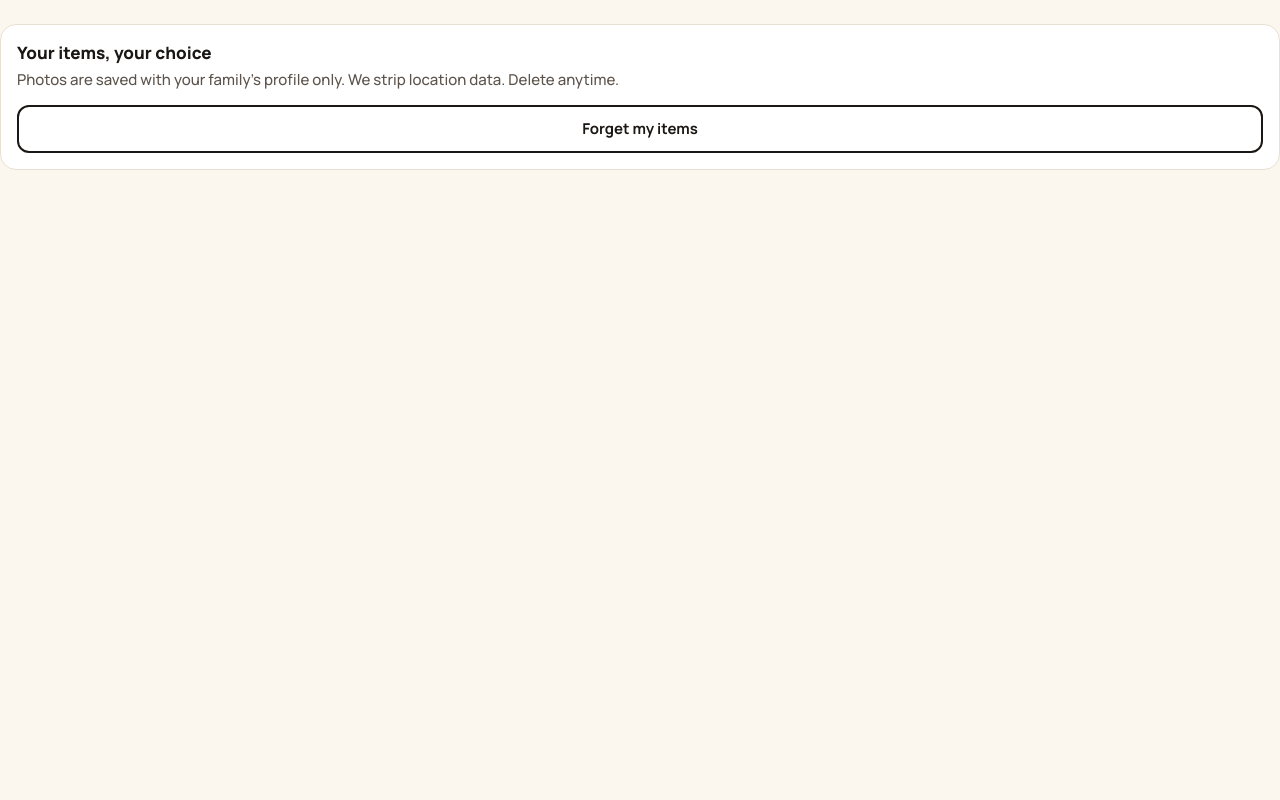
ForgetItemsCard › shows a clear failure message, keeps the button so they can try again, and never claims success
Click the button "Forget my items".
click(640, 129)  # box [17, 105, 1263, 153]
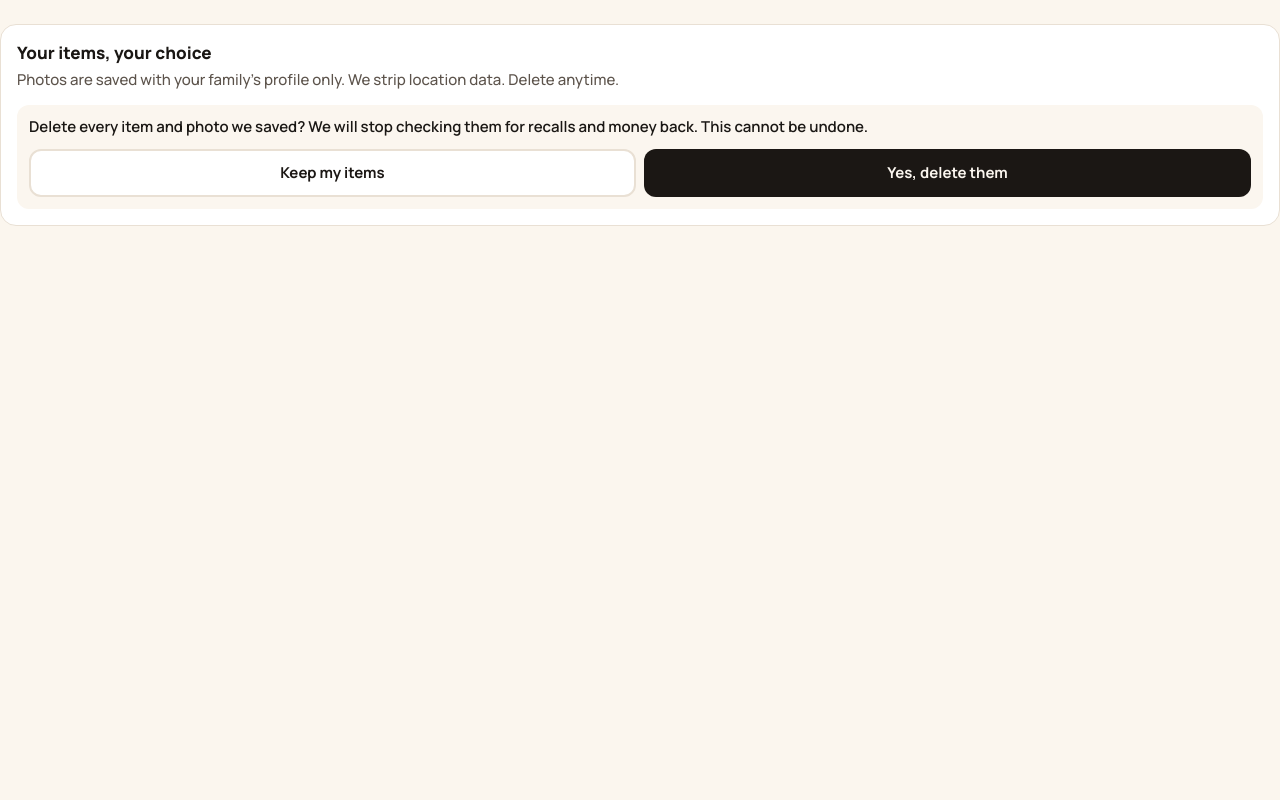
Click the button "Yes, delete them".
click(948, 173)  # box [644, 149, 1251, 197]
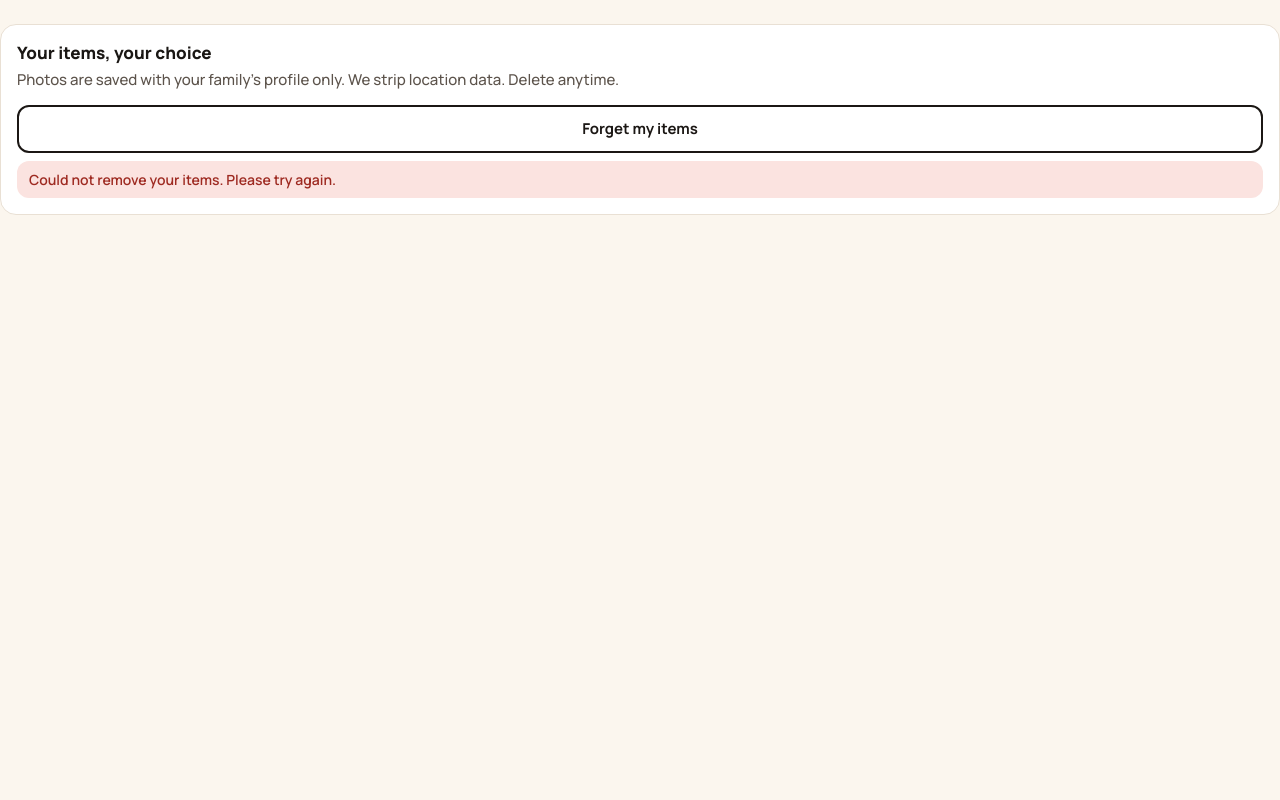
Expected: the message shows "Could not remove your items", [29, 170, 336, 189]
Click the button "Forget my items".
click(640, 129)  # box [17, 105, 1263, 153]
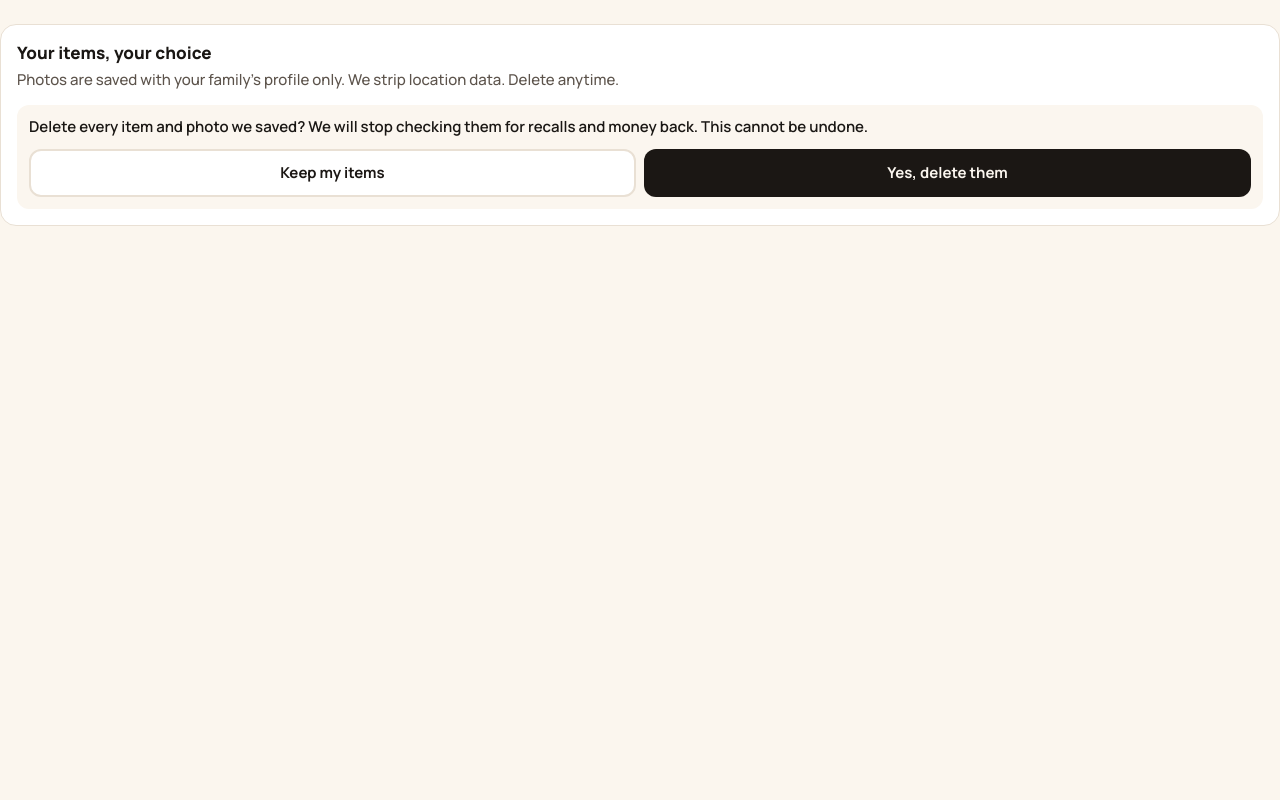
Click the button "Yes, delete them".
click(948, 173)  # box [644, 149, 1251, 197]
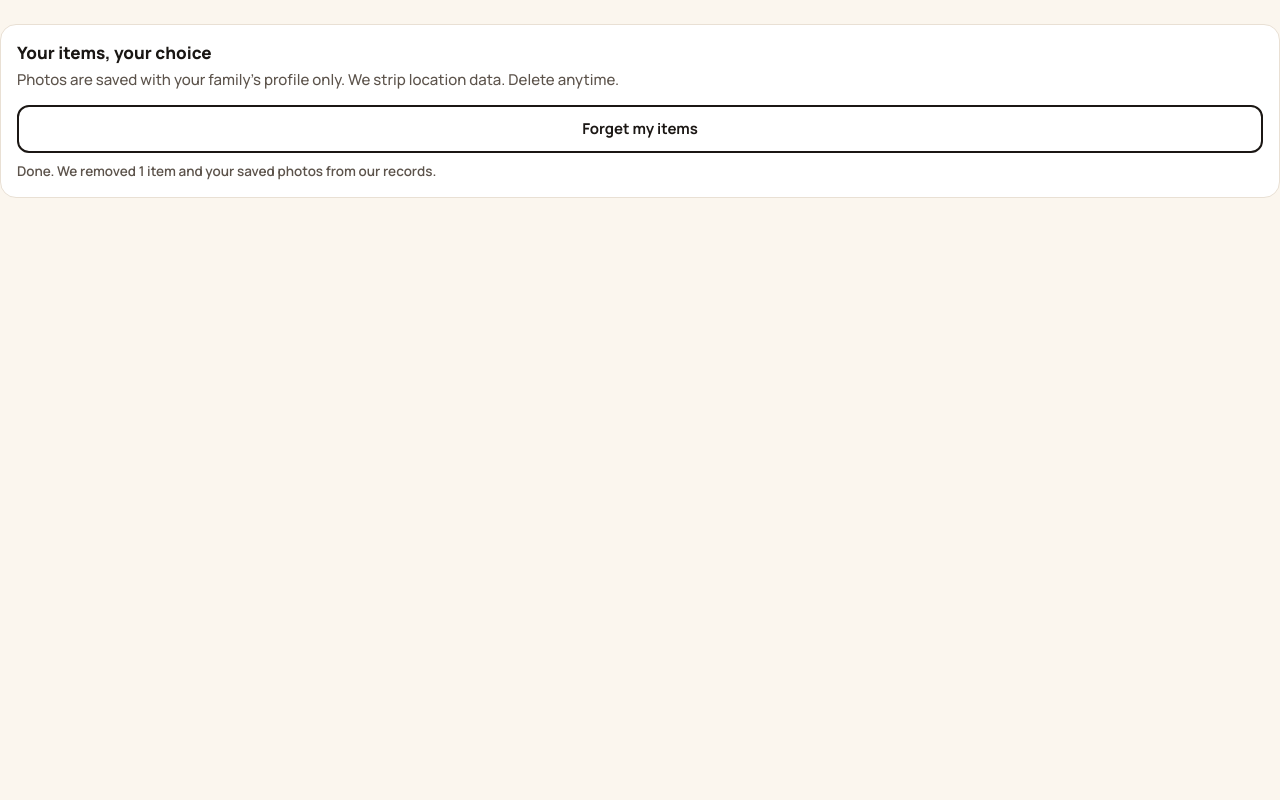
Expected: the message reads "Done. We removed 1 item and your saved photos from our records.", [17, 162, 436, 180]
